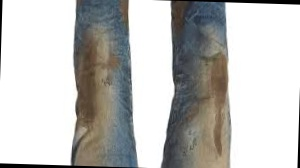earth: (74, 34, 100, 120), (209, 56, 229, 153), (74, 122, 100, 165), (198, 153, 227, 168), (173, 1, 184, 27), (103, 55, 118, 72), (187, 106, 201, 123), (122, 0, 128, 23)
